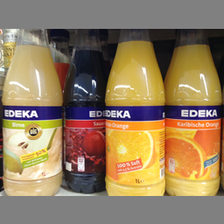juice: (104, 30, 167, 195), (2, 30, 64, 194), (163, 30, 221, 195), (62, 31, 108, 191)
